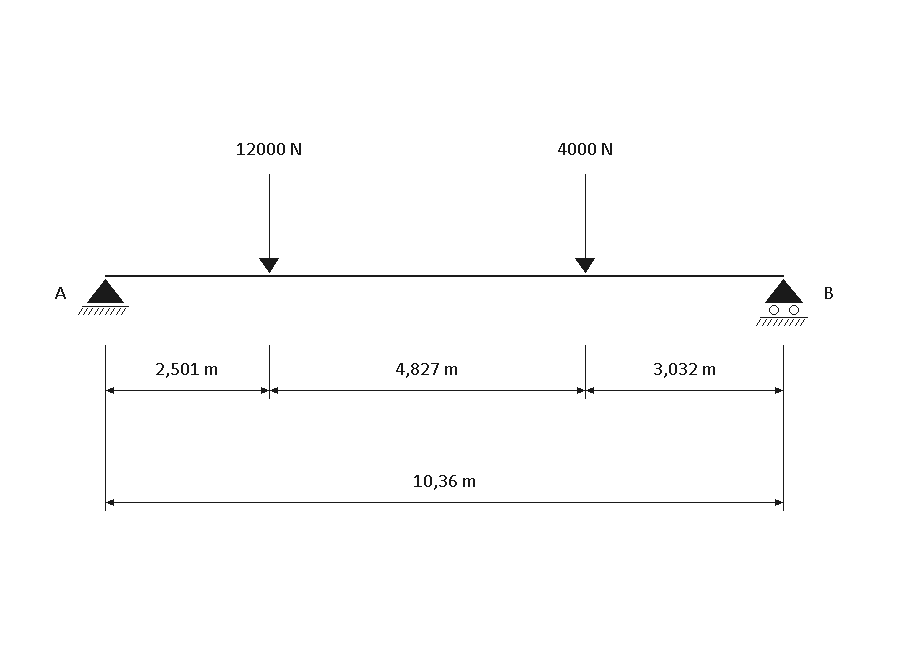pin_support: (78, 279, 129, 315)
point_load: (259, 174, 279, 273), (575, 174, 595, 273)
roller_support: (756, 279, 808, 326)
